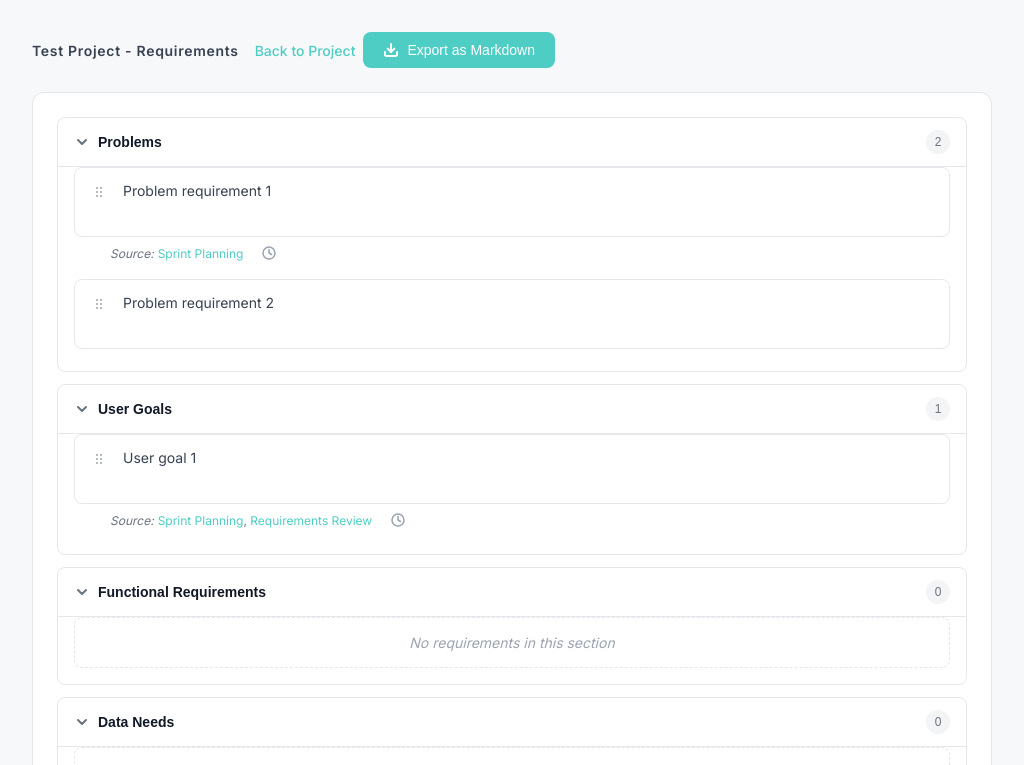
Scenario: RequirementsPage › Export Button › shows "Exporting..." while export is in progress
Click the button "Export as Markdown" at [459, 50], box x1=363 y1=32 x2=555 y2=68
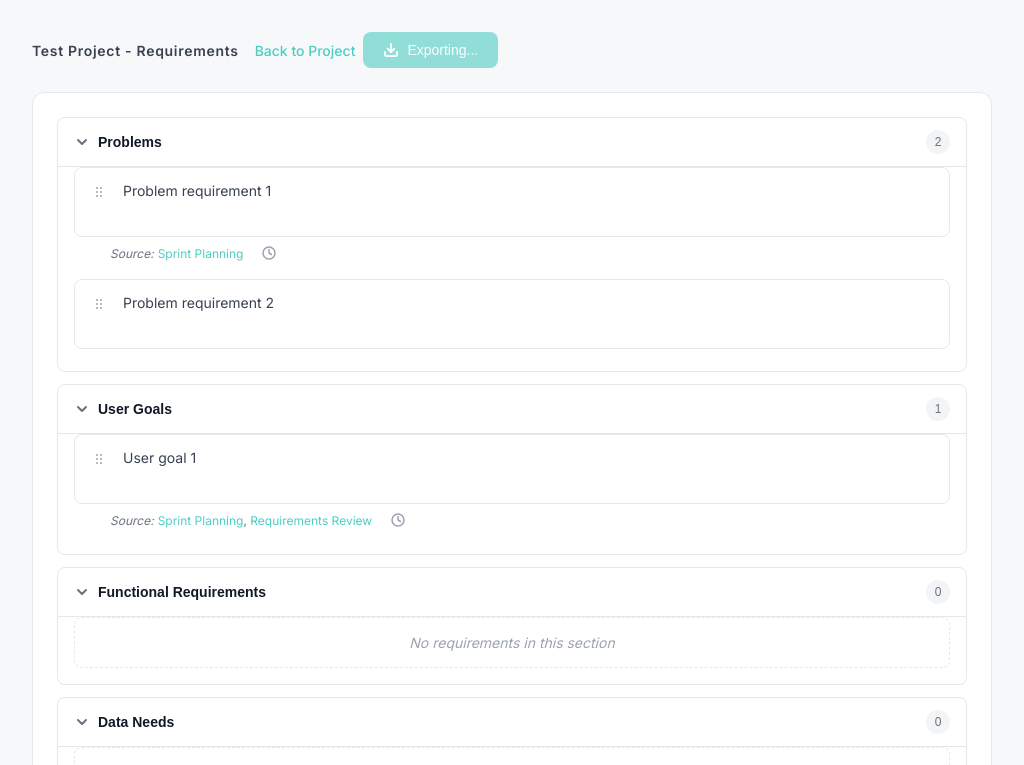
Check: the button "Exporting..." is shown, box x1=363 y1=32 x2=498 y2=68
